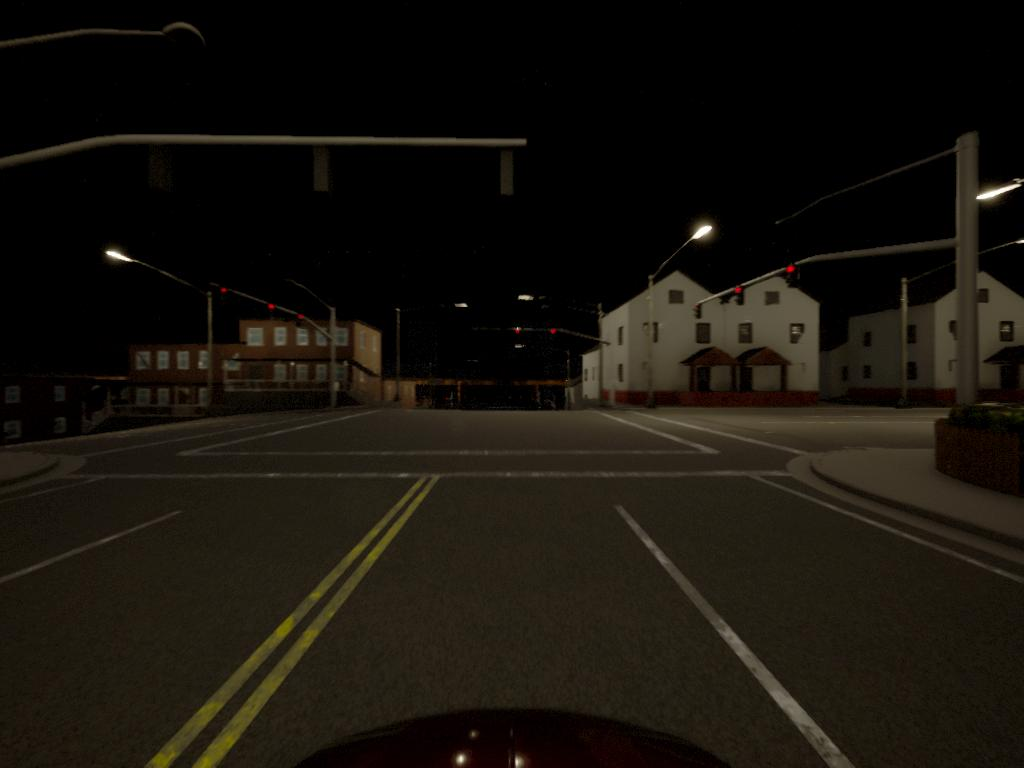traffic_light: (784, 268, 798, 288), (734, 287, 746, 309), (218, 286, 230, 306), (548, 329, 560, 345), (268, 302, 276, 322), (297, 314, 306, 331), (515, 329, 524, 342), (695, 305, 703, 319)
